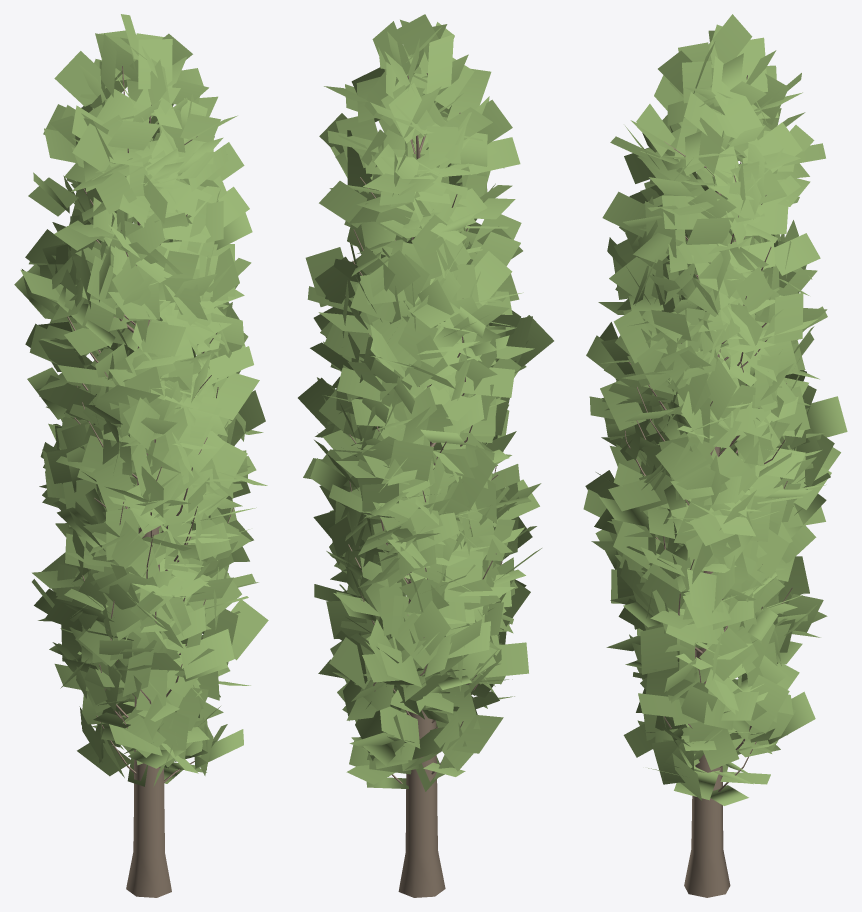
Rendered from Poplar_1_lod1.glb.
3 renders of one model, left to right at view 1: azimuth 30°, elevation 25°; view 2: azimuth 150°, elevation 25°; view 3: azimuth 270°, elevation 25°, orthographic. The views are drawn at different scales.
Parts seen in each view (by area): view 1: Poplar_1_lod1; view 2: Poplar_1_lod1; view 3: Poplar_1_lod1.
Part boxes in pixels (left/top/right/bottom): Poplar_1_lod1: left=14, top=14, right=268, bottom=897; Poplar_1_lod1: left=298, top=14, right=553, bottom=897; Poplar_1_lod1: left=583, top=14, right=847, bottom=897.
Size of the model in its own units: 6.16 by 22.9 by 6.33.
